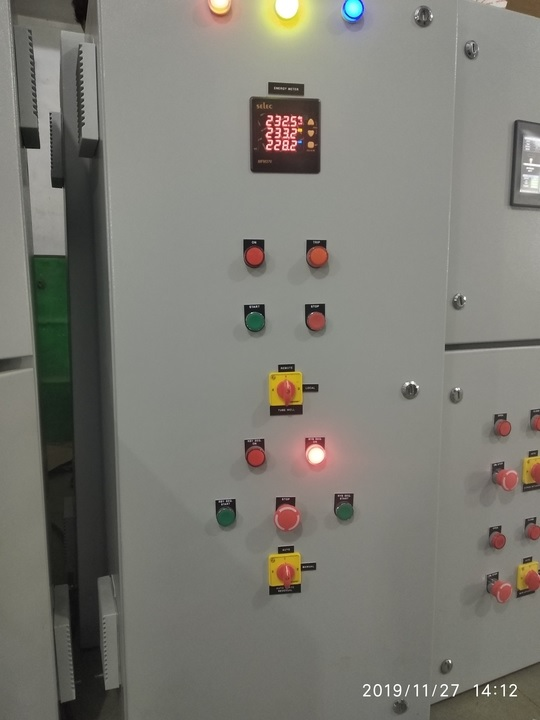Blue_Led_On: (336, 1, 370, 28)
Green_Led_Off: (318, 488, 375, 533), (235, 297, 280, 342), (207, 494, 249, 537)
Orange_Led_Off: (299, 234, 337, 274)
Red_Led_Off: (238, 437, 278, 479), (298, 298, 335, 343), (237, 236, 275, 276), (485, 411, 518, 441), (483, 524, 515, 554), (521, 516, 538, 541)
Red_Led_On: (296, 432, 339, 480)
Yellow_Led_On: (266, 1, 309, 27)
